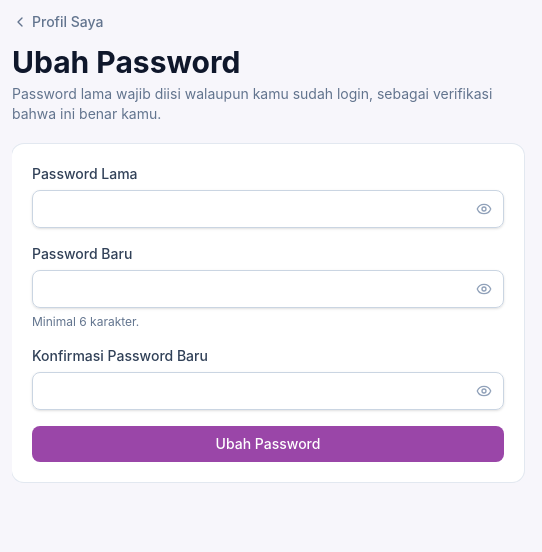
Test case: ChangePasswordPage › menampilkan pesan 401 dari server saat password lama salah
Type "salahbanget" into the password field labelled "Password Lama" at (268, 209), box [32,190,504,228]
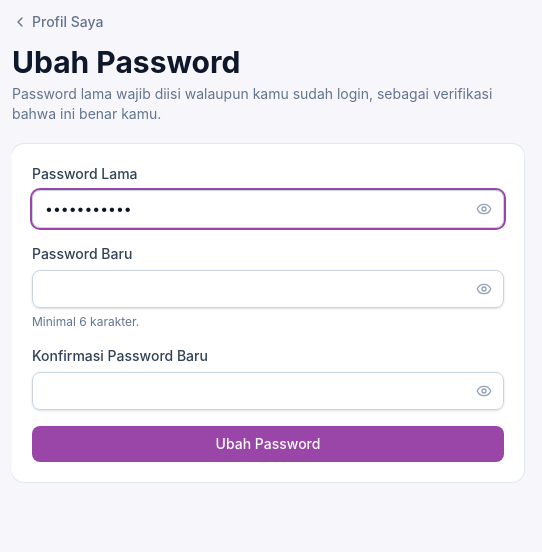
Type "rahasiabaru" into the password field labelled "Password Baru" at (268, 289), box [32,270,504,308]
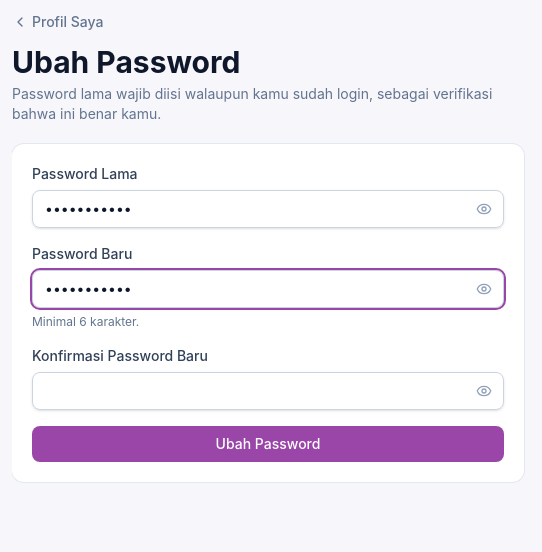
Type "rahasiabaru" into the password field labelled "Konfirmasi Password Baru" at (268, 391), box [32,372,504,410]
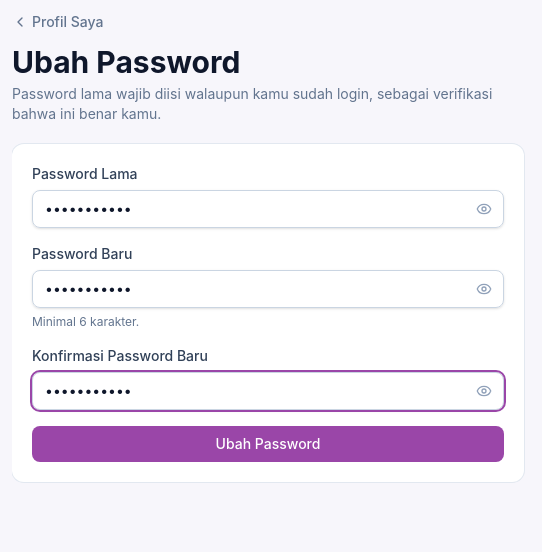
Click the button "Ubah Password" at (268, 444), box [32,426,504,462]
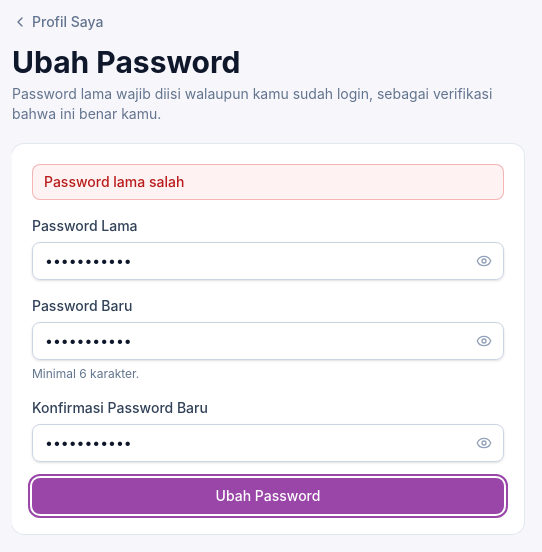
Now the text "Password lama salah" is shown, box [44,173,184,190]
